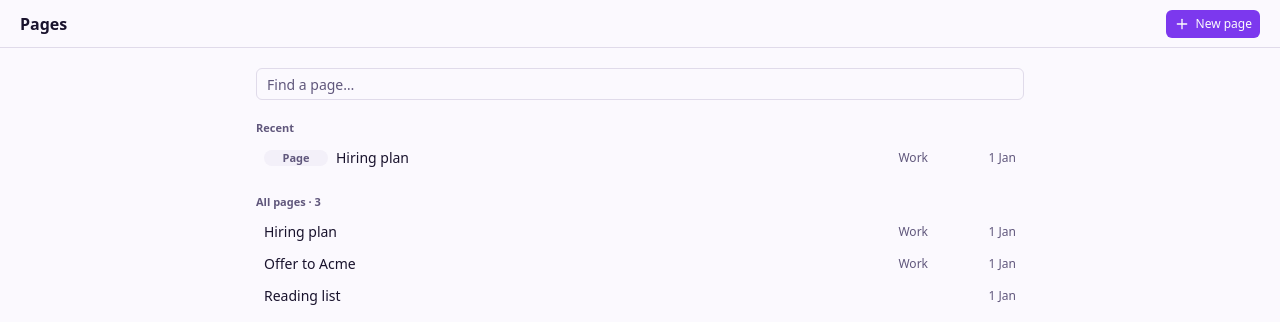
NotesPage › narrows the list by name and opens a page
Later steps or results of the test are not shown.
Type "acme" into the field labelled "Find a page". click: (640, 84)
box: [256, 68, 1024, 100]
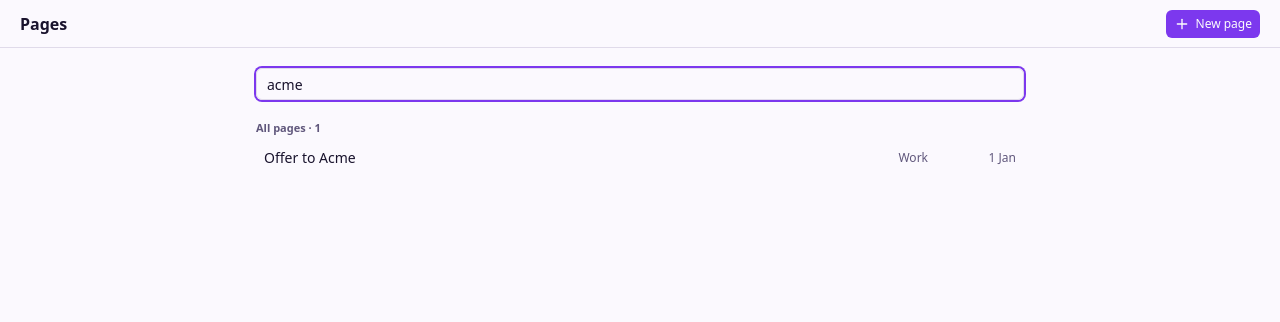
expect the heading "All pages · 1" is shown: met, box [256, 120, 321, 135]
